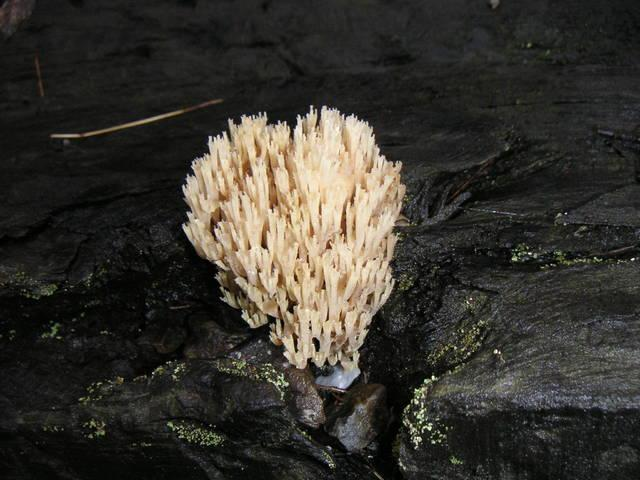Edible Mushroom: (180, 103, 409, 376)
